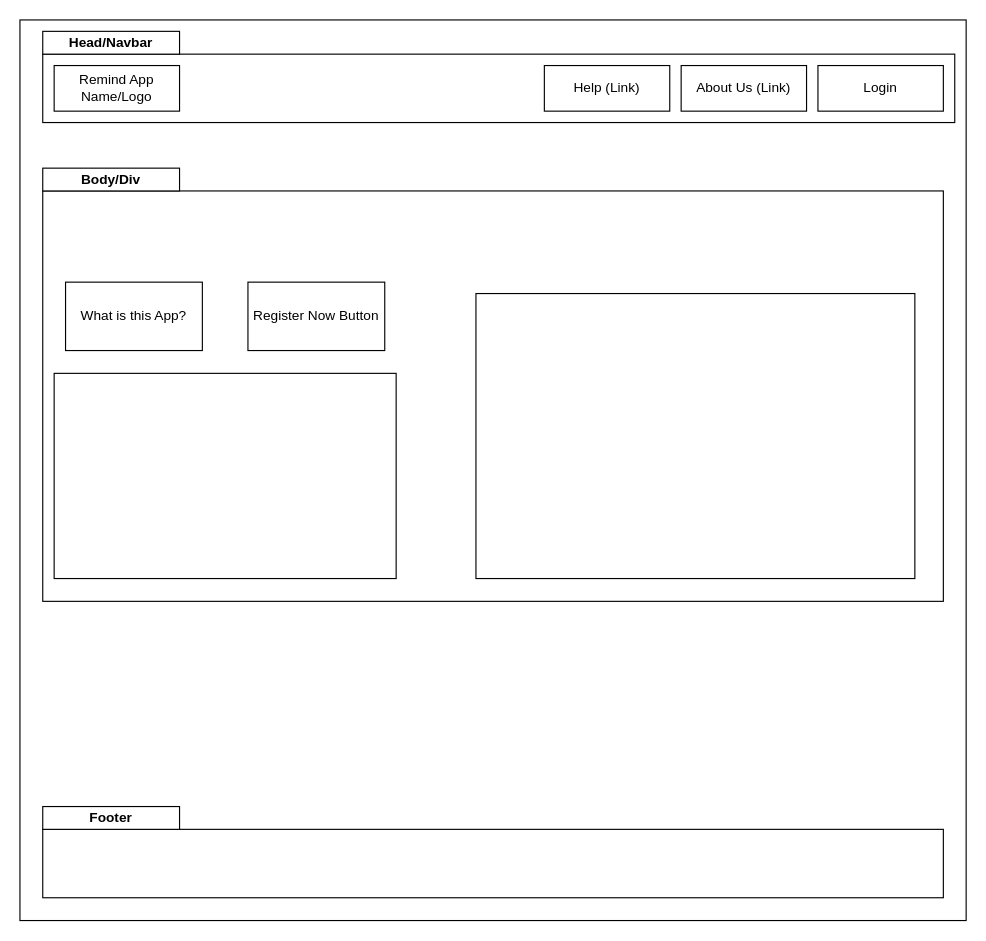
Some shapes in this 986 by 941 pixel diagram are drawn without their labels. The shapes that lost their labels are listed below. From the top down, each one's centre as x and y in pixels, then its label:
the point at 695,435: Image of Application
the point at 224,475: Info about App
